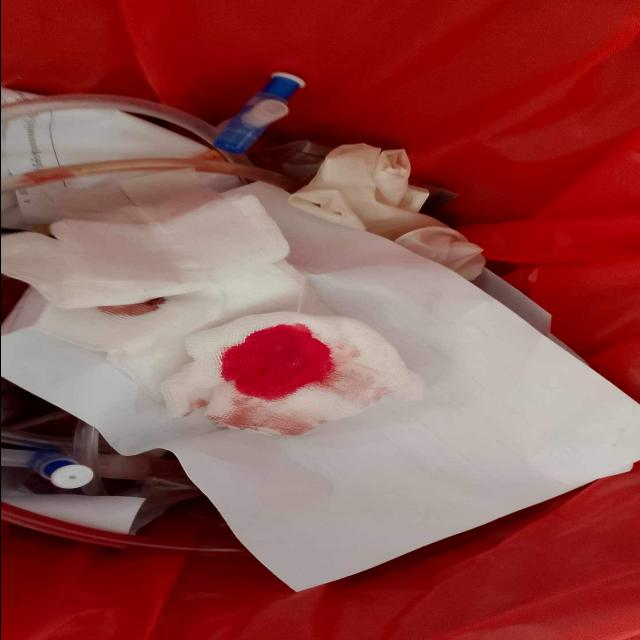General: (3, 72, 638, 592)
Infectious: (157, 310, 426, 436), (211, 70, 307, 154)
